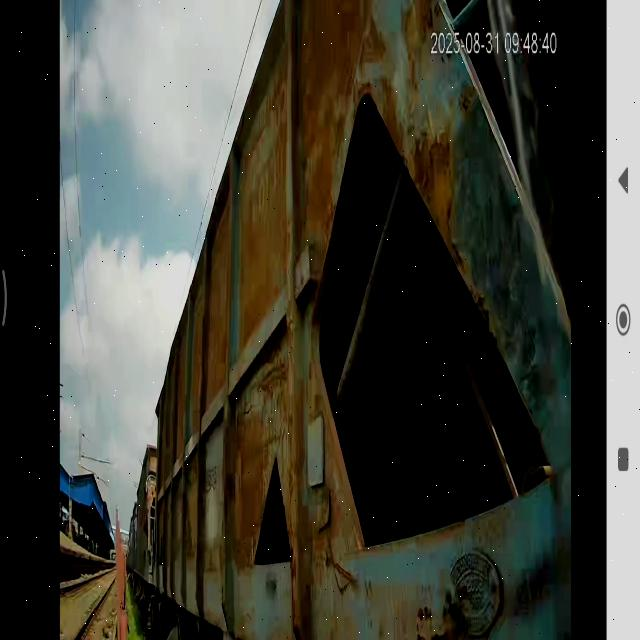coach: (158, 6, 584, 640)
